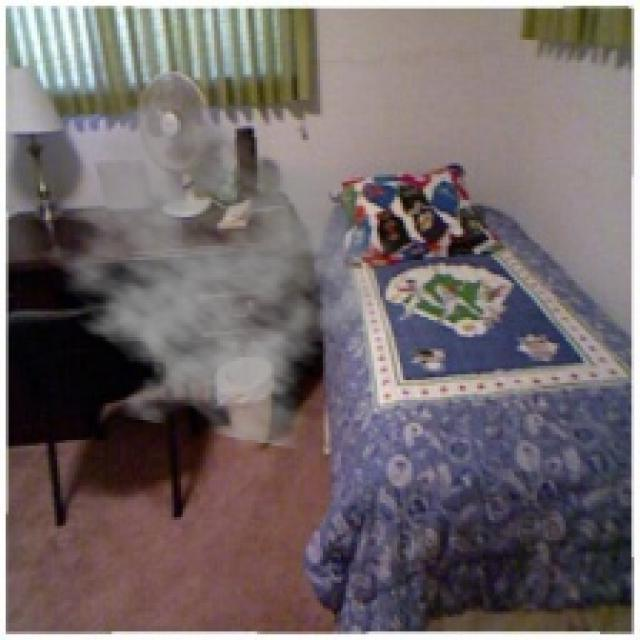Smoke: (23, 97, 400, 452)
